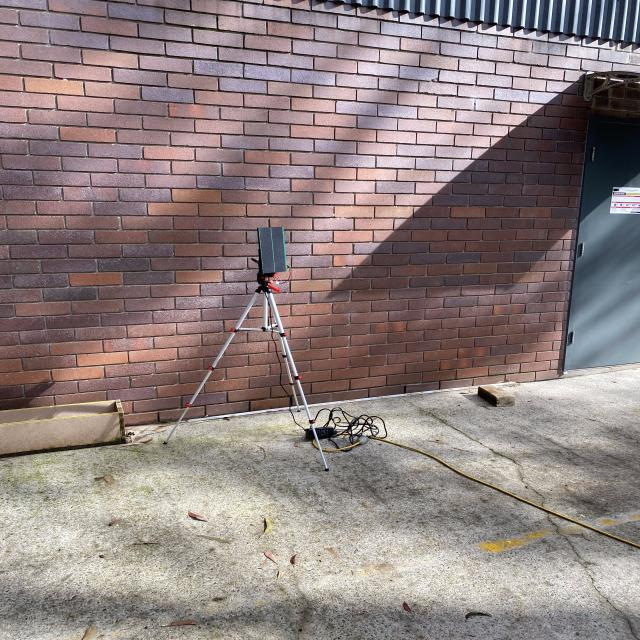matrix: (252, 224, 293, 277)
